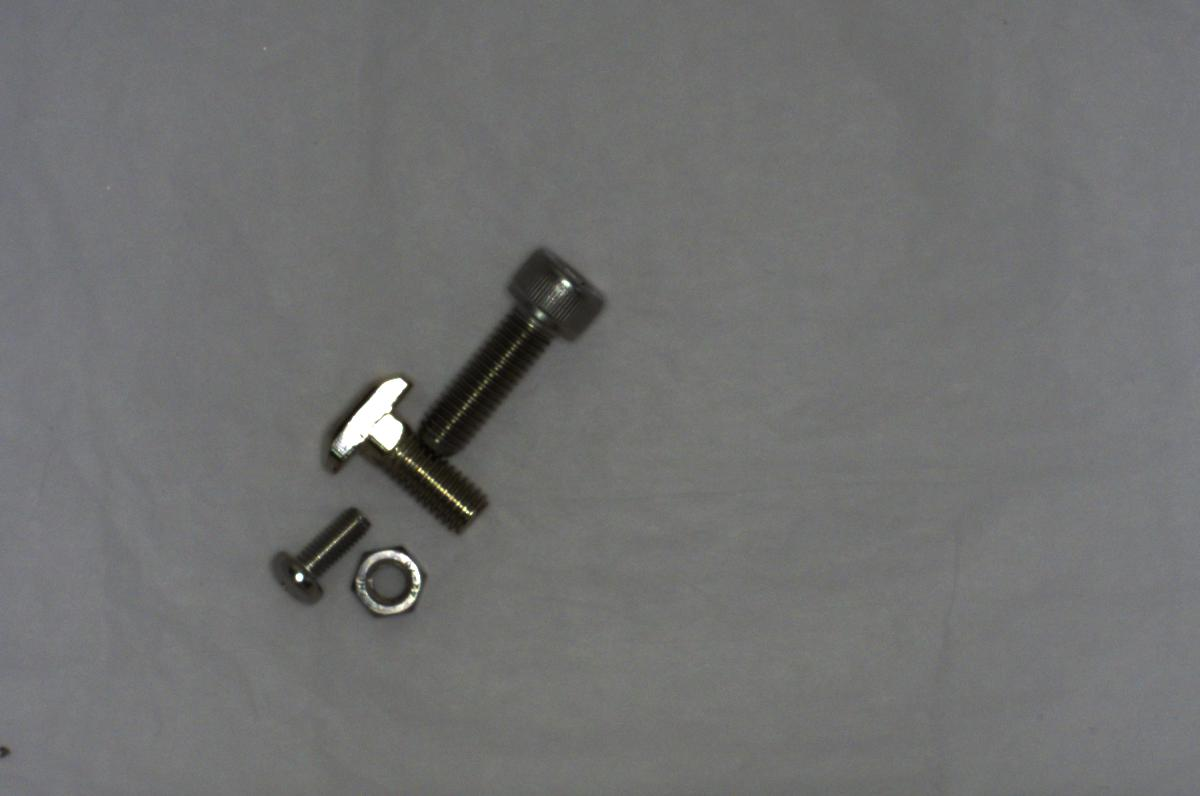Hexagon nut: (359, 547, 427, 622)
Hexagon screw: (420, 256, 604, 459)
Round head screw: (252, 502, 367, 606)
T-shaped screw: (315, 370, 494, 541)
